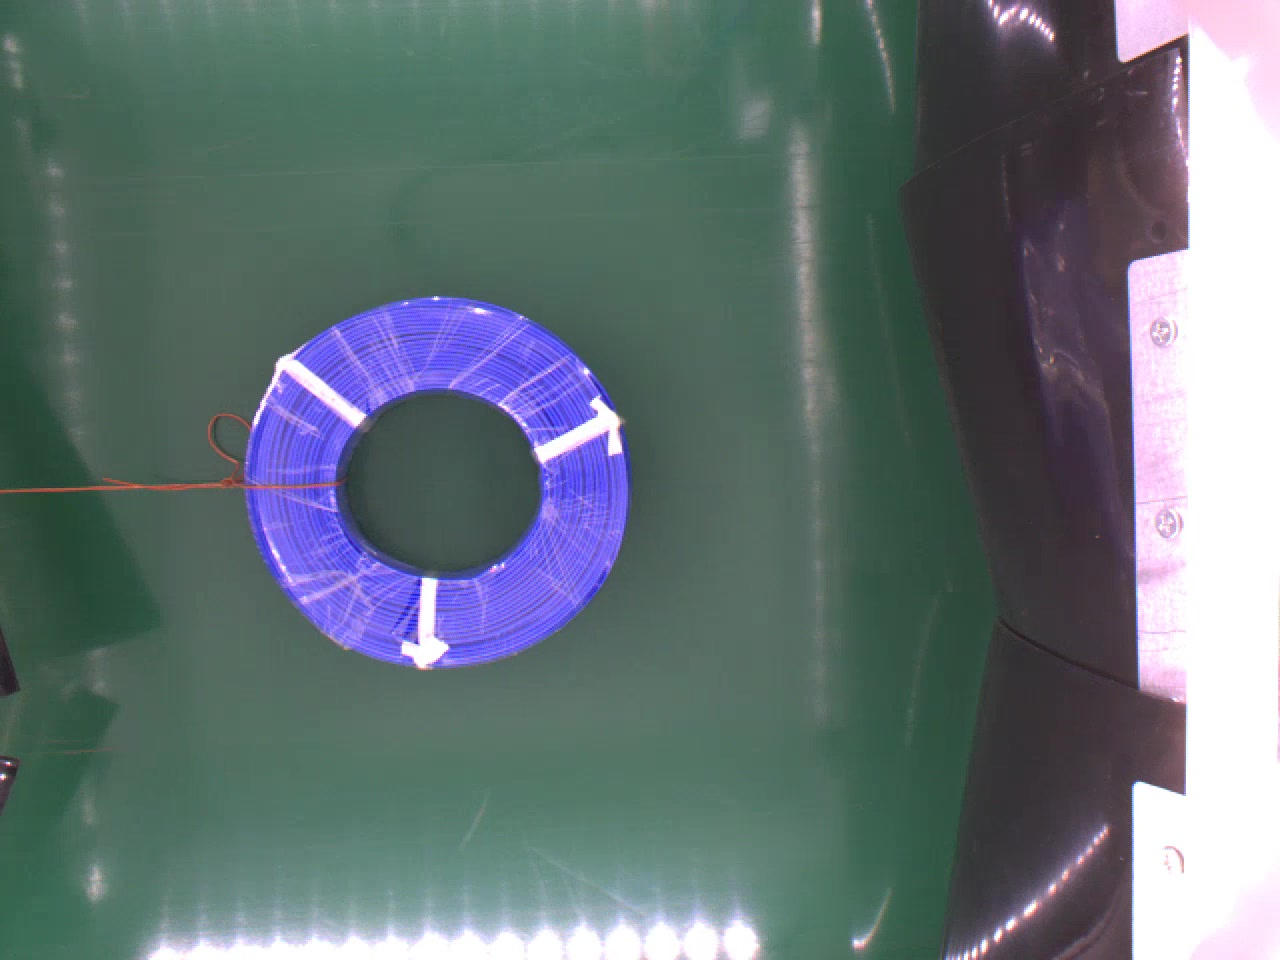blue: (248, 289, 629, 671)
